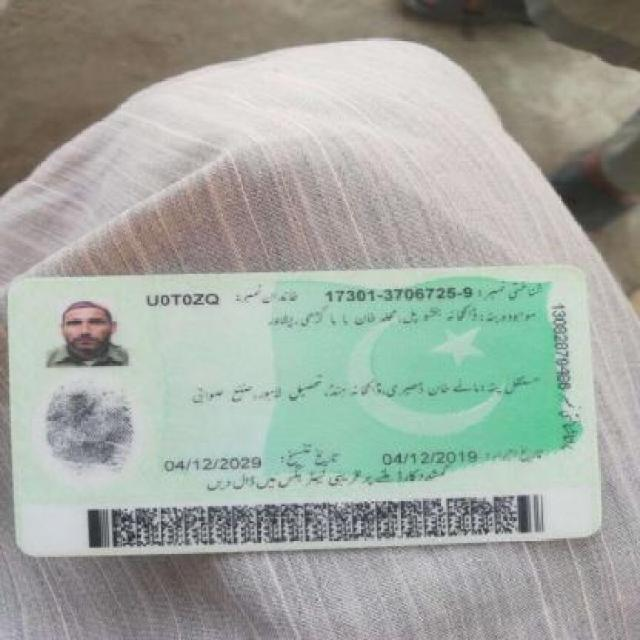Back: (11, 276, 598, 544)
